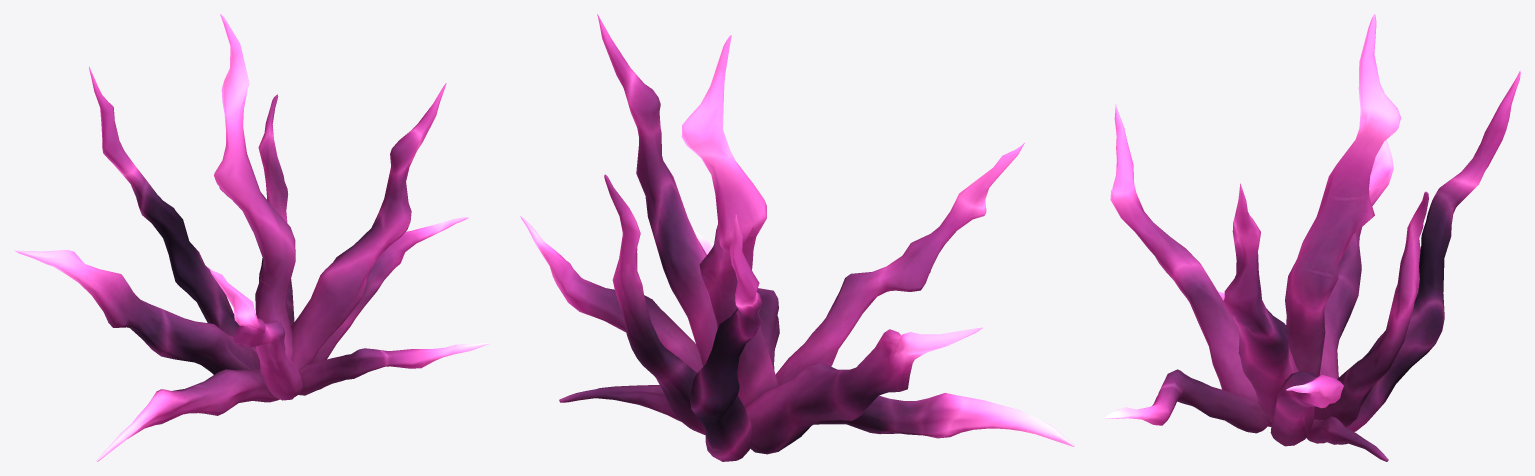
File: caos_drs_chaosbush_01a_chaos_v36.glb
The picture shows the model from 3 angles, left to right: view 1: azimuth 30°, elevation 25°; view 2: azimuth 150°, elevation 25°; view 3: azimuth 270°, elevation 25°; orthographic projection. The views are drawn at different scales.
Visible parts, largest first — view 1: caos_drs_chaosbush_01a; view 2: caos_drs_chaosbush_01a; view 3: caos_drs_chaosbush_01a.
Boxes of the visible parts, left/top/right/bottom form: caos_drs_chaosbush_01a: left=14, top=14, right=491, bottom=461; caos_drs_chaosbush_01a: left=520, top=14, right=1074, bottom=461; caos_drs_chaosbush_01a: left=1103, top=14, right=1520, bottom=461.
Bounding box in the file's own units: 1.48 × 1.23 × 1.13.
1 material, 1 textured.
